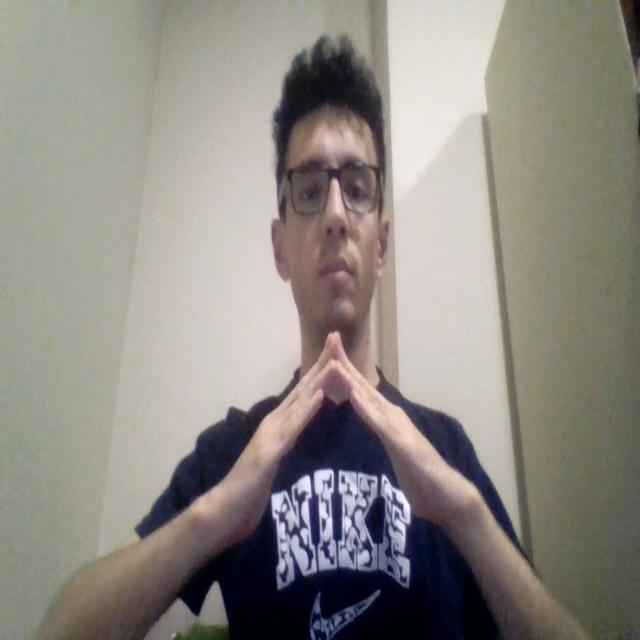house: (216, 337, 457, 534)
